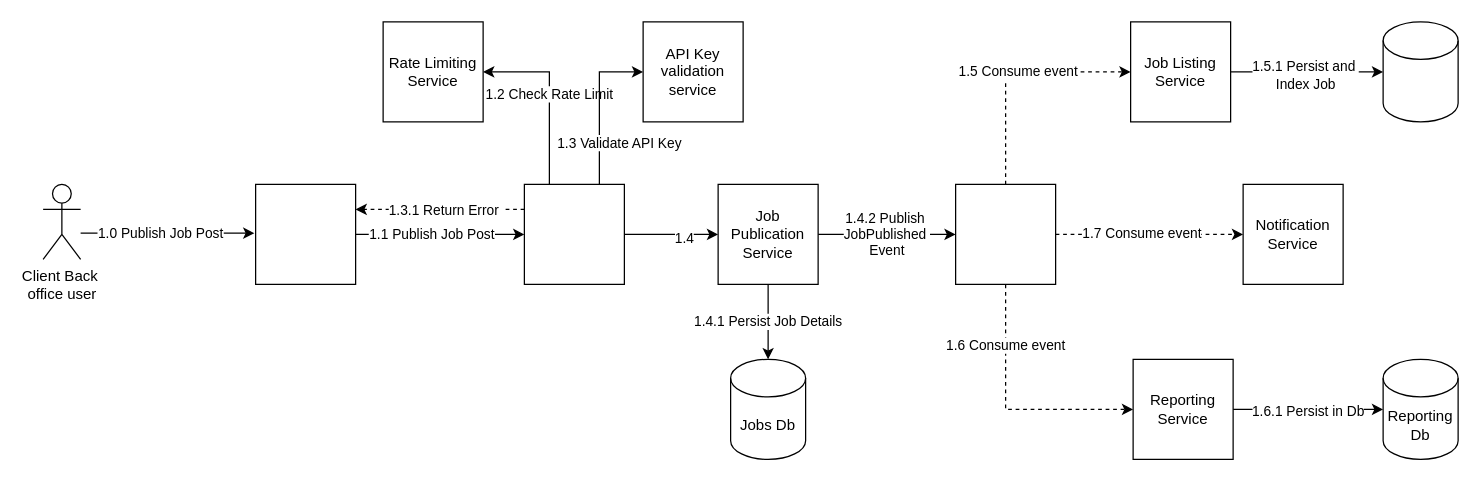
The diagram is 1480 pixels wide and 481 high, and some of its shapes have lost their labels. Each missing label, with the box of its shape:
API Gateway: (523, 183, 624, 284)
Client HRM System: (254, 183, 356, 284)
Event Broker: (954, 183, 1056, 284)
Listing Db: (1382, 21, 1458, 122)
